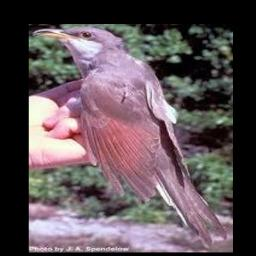Cuckoo: (34, 26, 226, 249)
